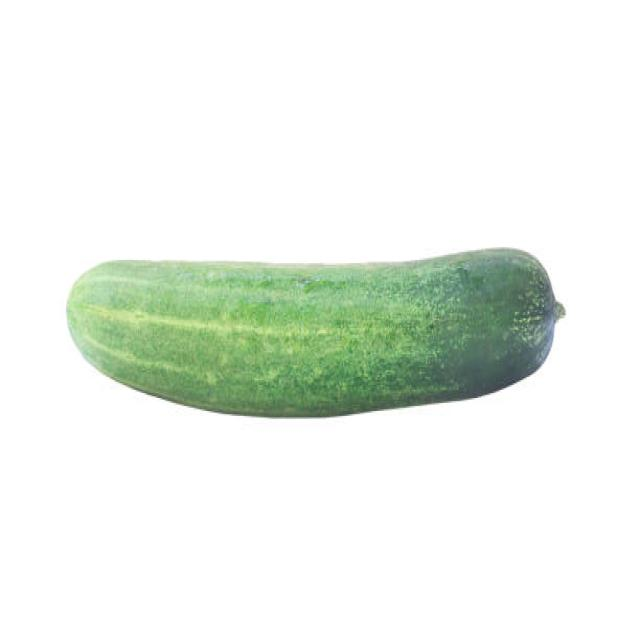cucumber: (63, 249, 563, 417)
